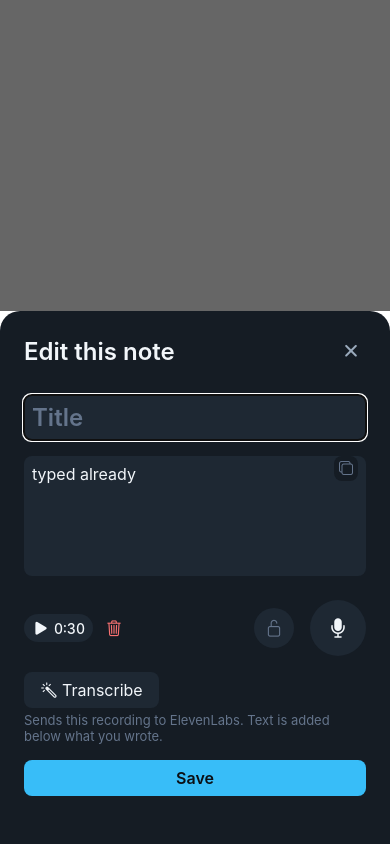
Scenario: transcribing the recording › offers another attempt once one has been made
This screenshot has width=390, height=844.
Click the button with aria-label "Transcribe the recording".
click(91, 690)  # box [24, 672, 159, 708]
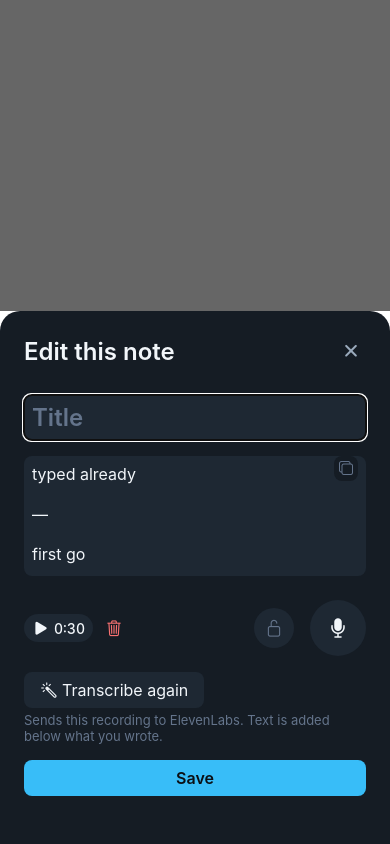
Result: the button with aria-label "Transcribe the recording again" is shown at [24, 672, 204, 708]
